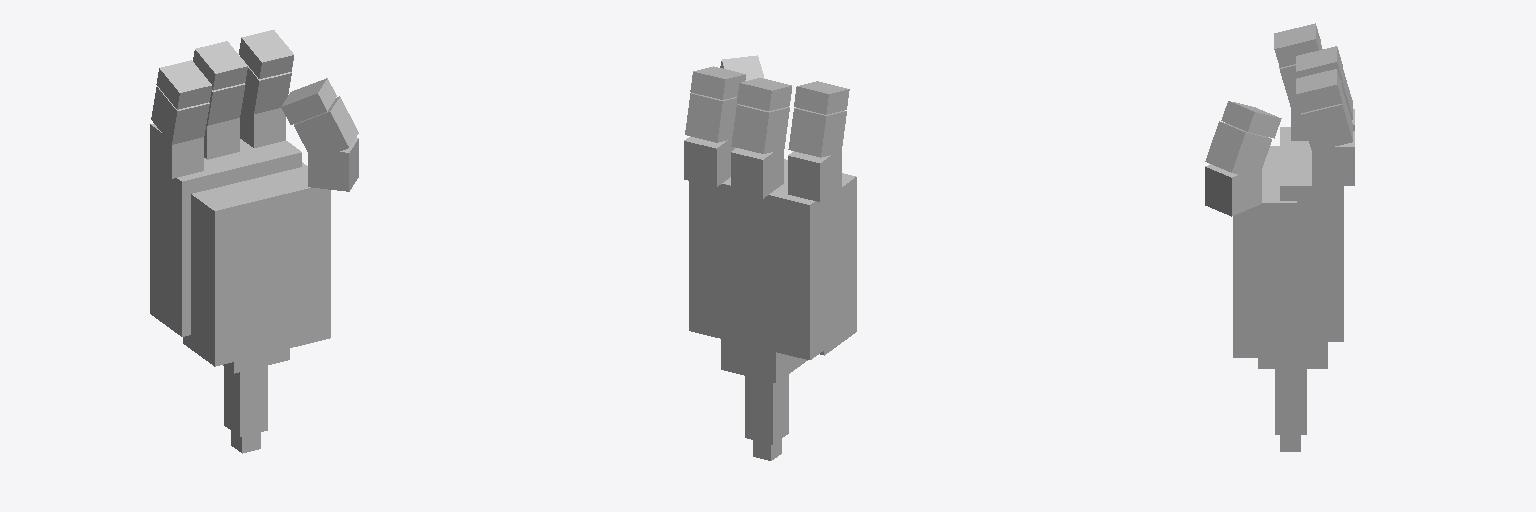
File: monkey_paw.obj
The picture shows the model from 3 angles: view 1: azimuth 30°, elevation 25°; view 2: azimuth 150°, elevation 25°; view 3: azimuth 270°, elevation 25°; orthographic projection.
Visible parts, largest first — view 1: cube.017, cube.018, cube.015, cube.016, cube.012, cube.002, cube.001, cube.005, cube.006, cube.007, cube.010, cube.009 (+6 smaller); view 2: cube.015, cube.016, cube.012, cube.005, cube.008, cube.006, cube, cube.014, cube.004, cube.011, cube.017, cube.007 (+4 smaller); view 3: cube.017, cube.015, cube.016, cube.018, cube.002, cube.001, cube.012, cube.011, cube.004, cube.010, cube.007, cube.003 (+2 smaller).
Part boxes in pixels (bbox=[...]): cube.017: bbox=[183, 222, 330, 366]; cube.018: bbox=[191, 162, 330, 249]; cube.015: bbox=[150, 198, 190, 336]; cube.016: bbox=[150, 139, 301, 219]; cube.012: bbox=[224, 366, 267, 436]; cube.002: bbox=[294, 96, 358, 151]; cube.001: bbox=[308, 137, 358, 191]; cube.005: bbox=[150, 124, 203, 178]; cube.006: bbox=[151, 86, 209, 144]; cube.007: bbox=[156, 60, 211, 109]; cube.010: bbox=[239, 30, 293, 78]; cube.009: bbox=[193, 41, 247, 90]; cube.015: bbox=[689, 215, 841, 359]; cube.016: bbox=[689, 168, 841, 243]; cube.012: bbox=[745, 375, 788, 444]; cube.005: bbox=[788, 148, 841, 201]; cube.008: bbox=[731, 104, 789, 153]; cube.006: bbox=[788, 108, 846, 157]; cube: bbox=[731, 145, 783, 198]; cube.014: bbox=[721, 339, 807, 382]; cube.004: bbox=[684, 136, 735, 187]; cube.011: bbox=[685, 93, 737, 142]; cube.017: bbox=[820, 216, 856, 355]; cube.007: bbox=[794, 81, 849, 114]; cube.017: bbox=[1233, 242, 1296, 357]; cube.015: bbox=[1297, 225, 1343, 341]; cube.016: bbox=[1280, 127, 1343, 224]; cube.018: bbox=[1233, 146, 1296, 241]; cube.002: bbox=[1205, 121, 1271, 178]; cube.001: bbox=[1205, 164, 1261, 216]; cube.012: bbox=[1275, 369, 1306, 434]; cube.011: bbox=[1301, 93, 1352, 151]; cube.004: bbox=[1312, 131, 1354, 185]; cube.010: bbox=[1296, 69, 1342, 112]; cube.007: bbox=[1274, 23, 1320, 67]; cube.003: bbox=[1221, 101, 1281, 138].
Bounding box in the file's own units: 0.5312 × 1.25 × 0.4367.